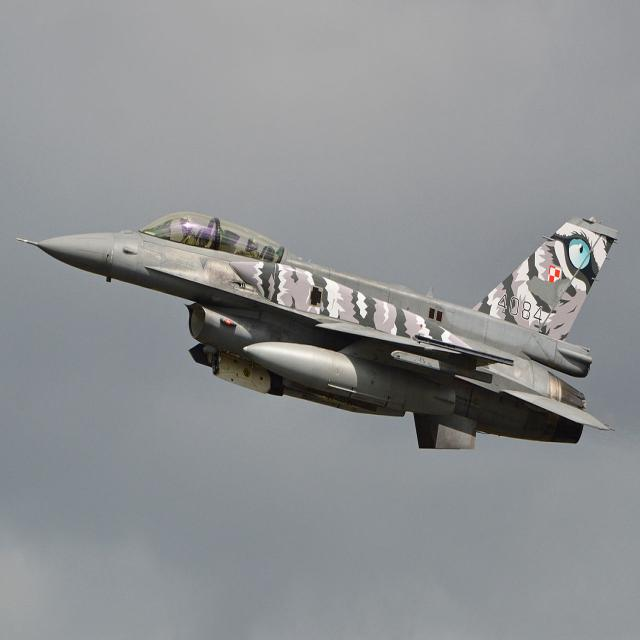MIL_Plane: (14, 212, 616, 452)
